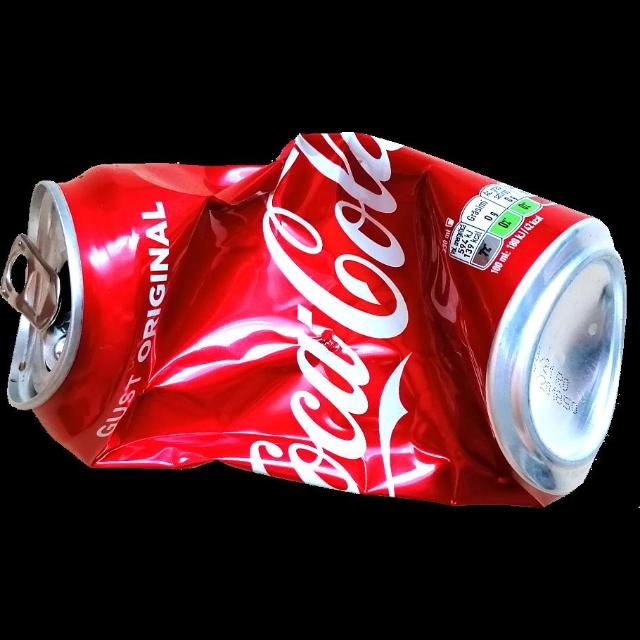aba de lata: (0, 233, 60, 331)
lata: (8, 132, 628, 508)
